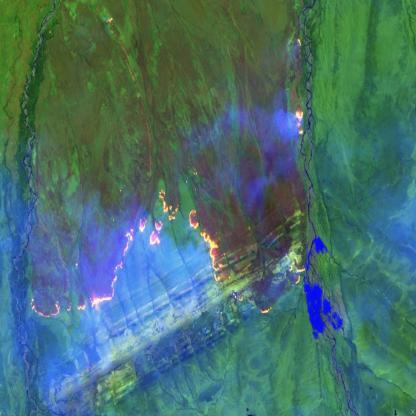fire: (25, 173, 309, 331), (286, 97, 312, 142)
